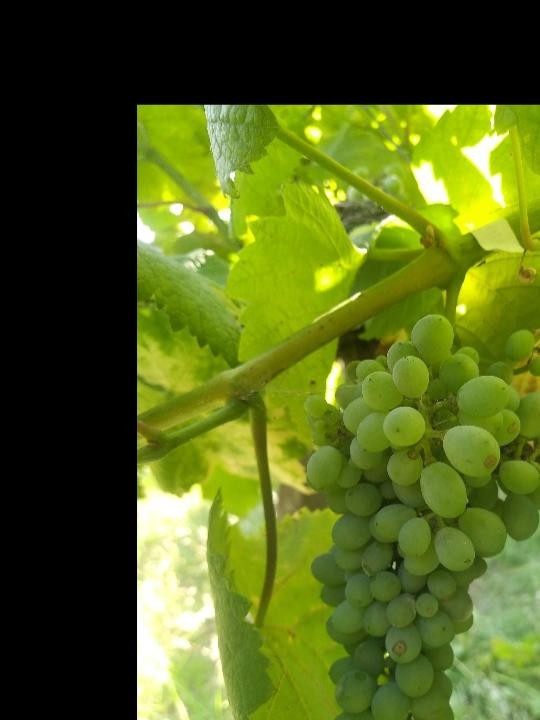grape: (300, 295, 540, 720)
